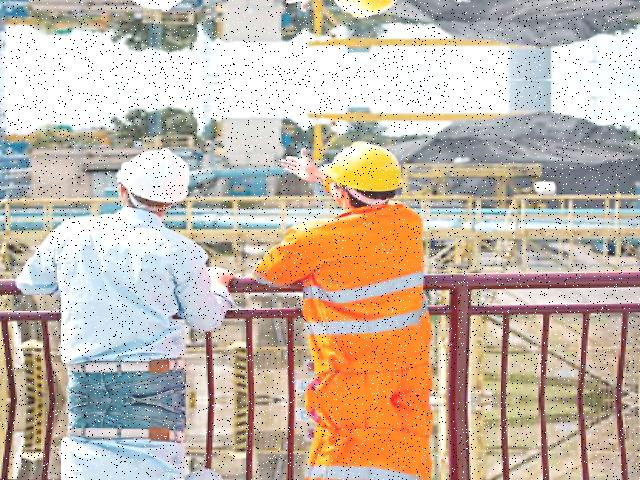Helmet: (319, 135, 407, 199), (110, 143, 194, 209)
